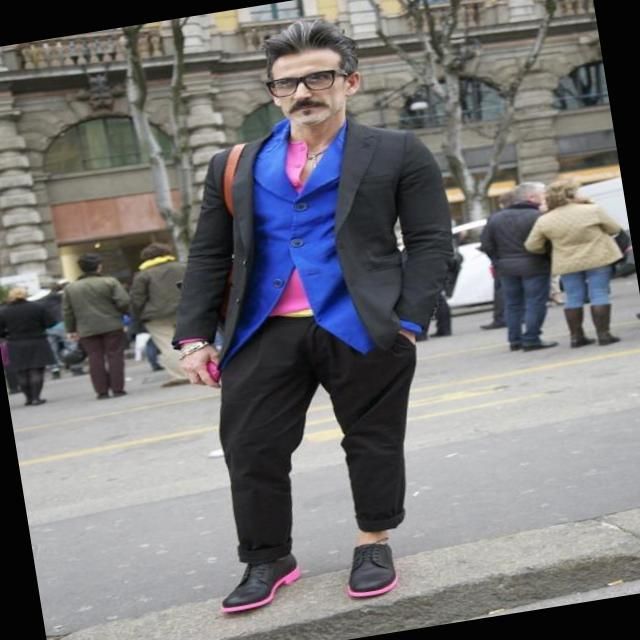pants: (203, 306, 448, 570)
sweater: (144, 93, 470, 384)
